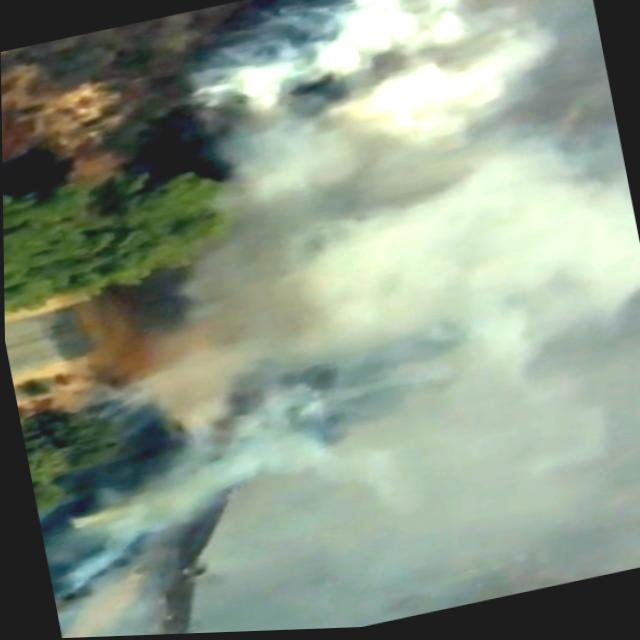smoke: (275, 102, 640, 365), (257, 0, 512, 150), (107, 397, 323, 518)
